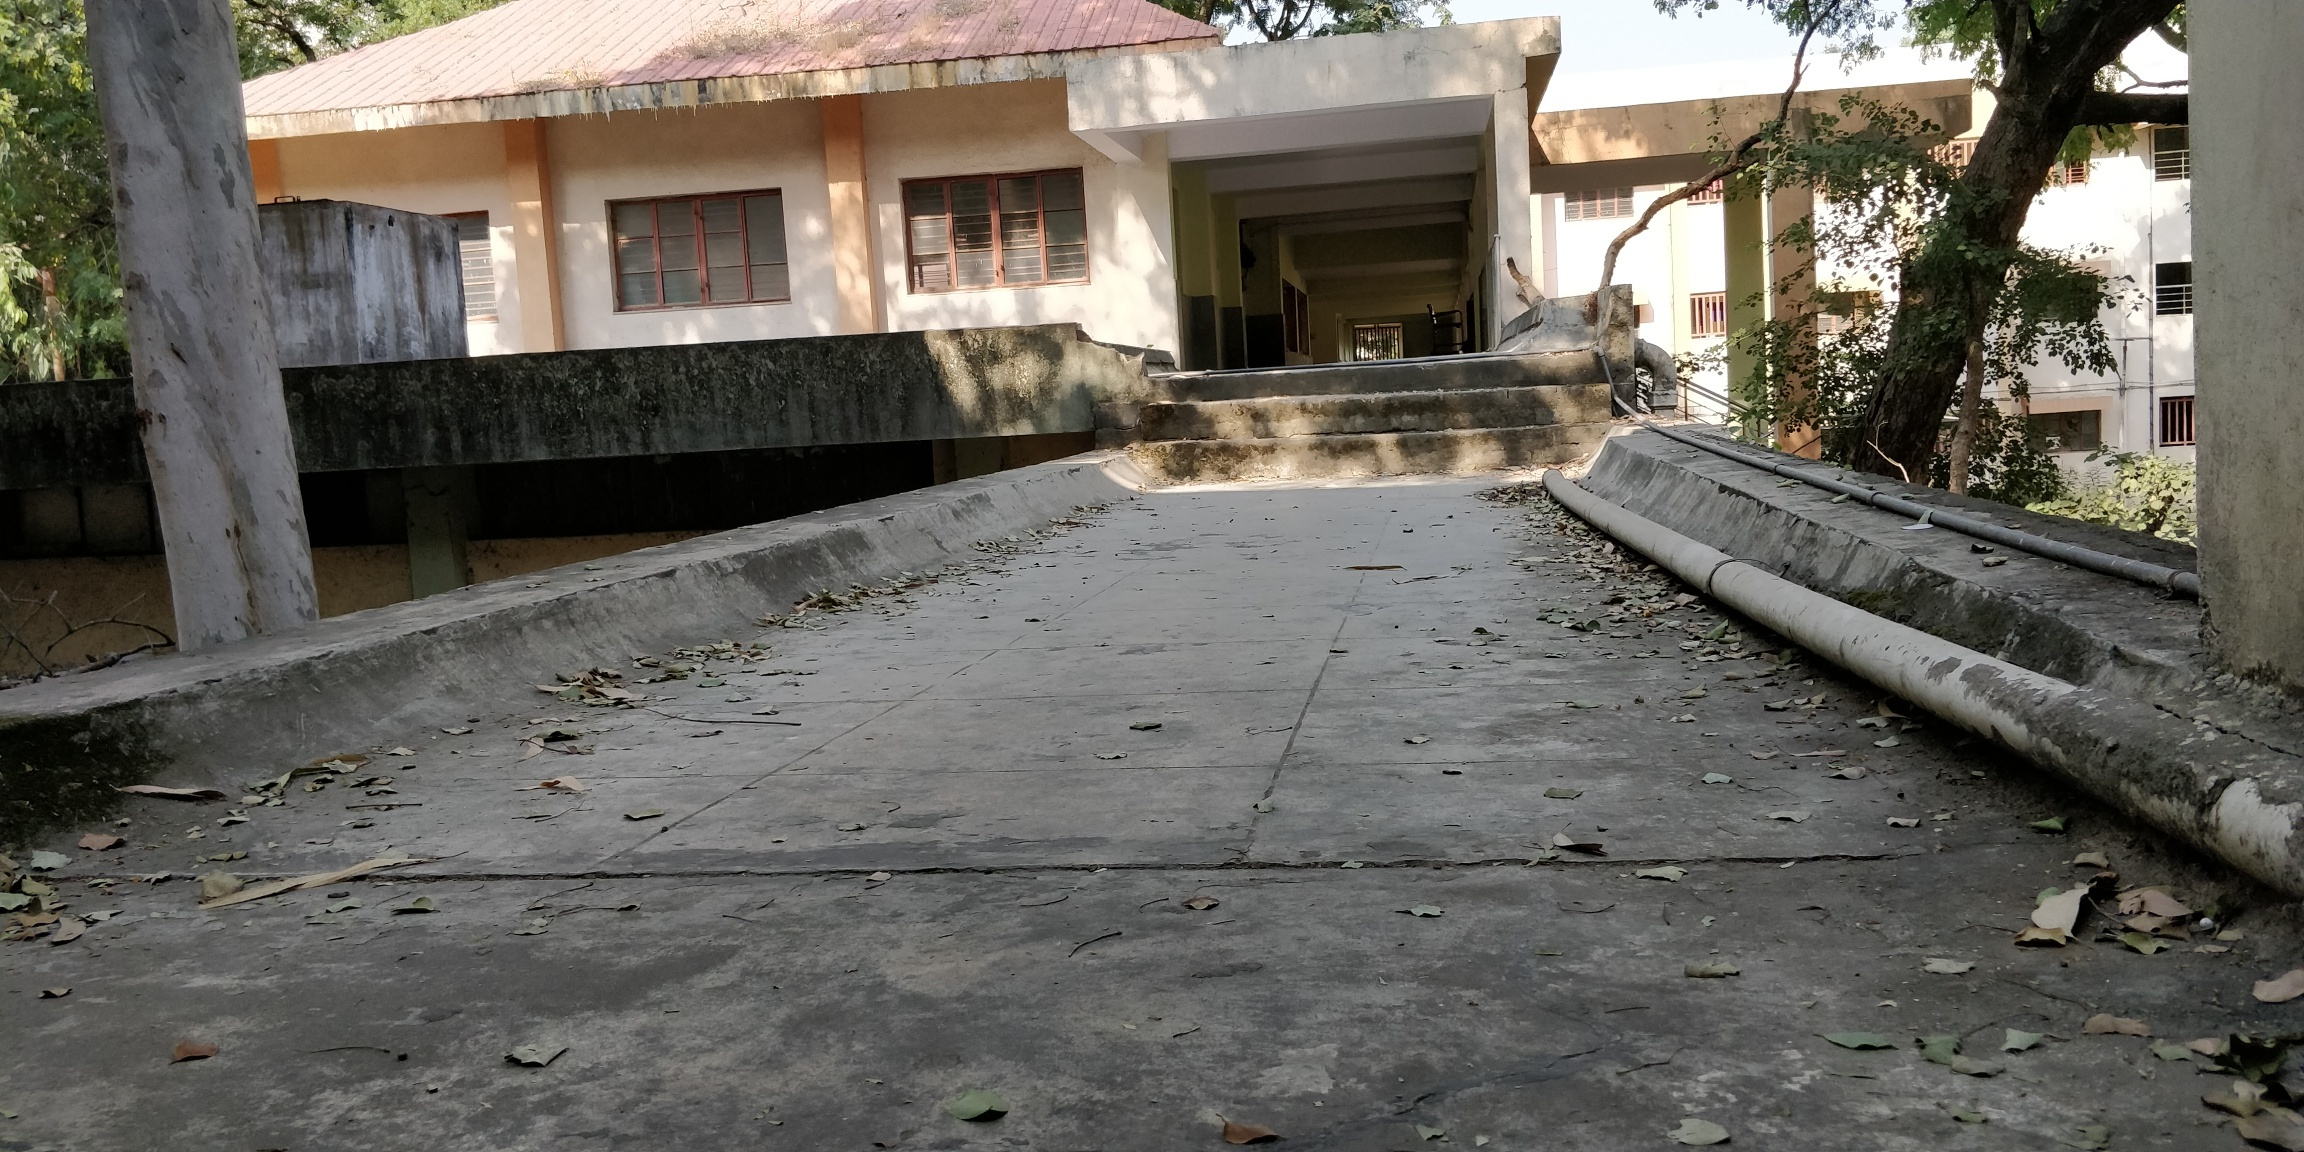stairs_up: (1146, 347, 1587, 489)
